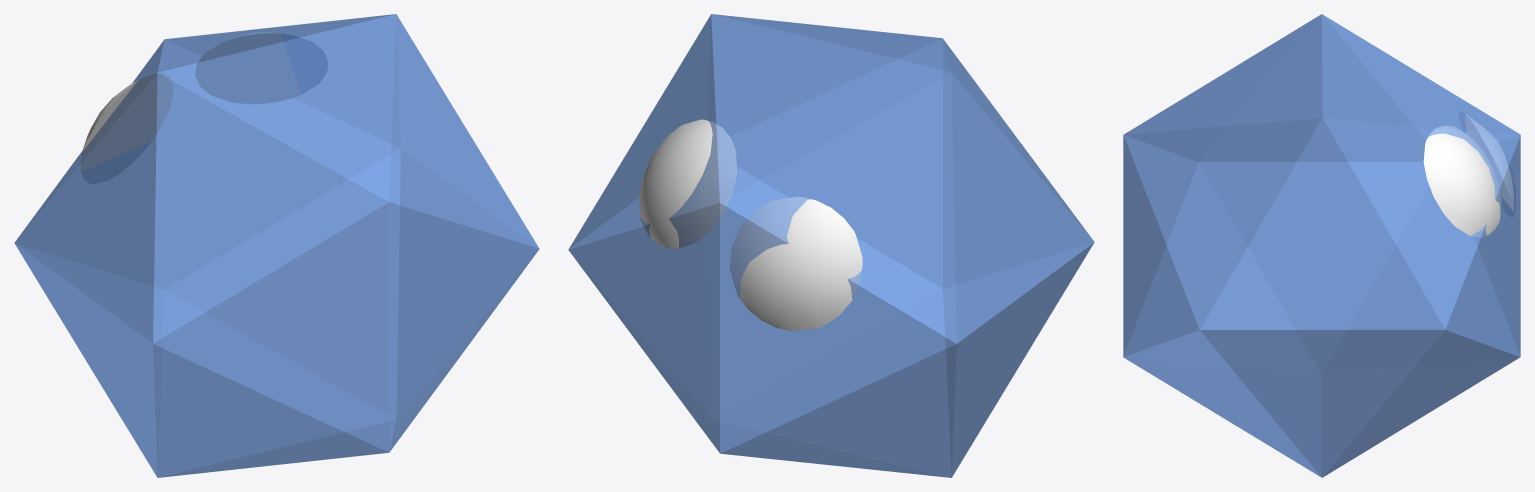
The model's file is blob.fbx.
3 renders of one model, left to right at view 1: azimuth 30°, elevation 25°; view 2: azimuth 150°, elevation 25°; view 3: azimuth 270°, elevation 25°, orthographic. The views are drawn at different scales.
Parts seen in each view (by area): view 1: body, left eye, right eye; view 2: body, right eye, left eye; view 3: body, left eye, right eye.
Boxes of the visible parts, left/top/right/bottom form: body: left=14, top=14, right=539, bottom=477; left eye: left=195, top=32, right=327, bottom=103; right eye: left=81, top=73, right=172, bottom=183; body: left=568, top=14, right=1094, bottom=477; right eye: left=730, top=197, right=862, bottom=331; left eye: left=639, top=119, right=736, bottom=249; body: left=1123, top=14, right=1520, bottom=477; left eye: left=1423, top=126, right=1501, bottom=236; right eye: left=1459, top=112, right=1515, bottom=216.
Bounding box in the file's own units: 413 × 414 × 414.
